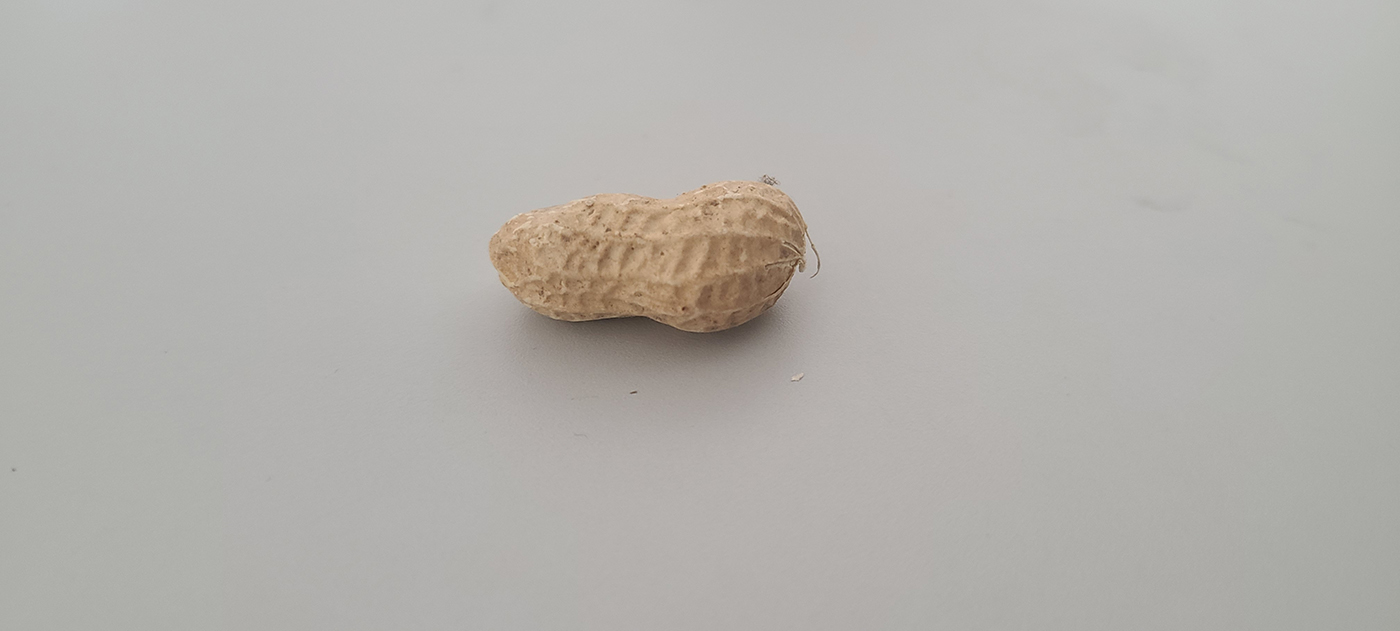h: (489, 177, 806, 332)
